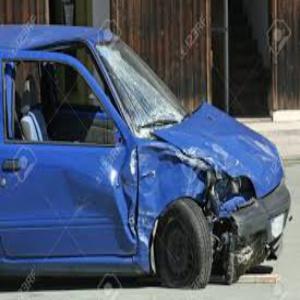door: (62, 179, 153, 256)
